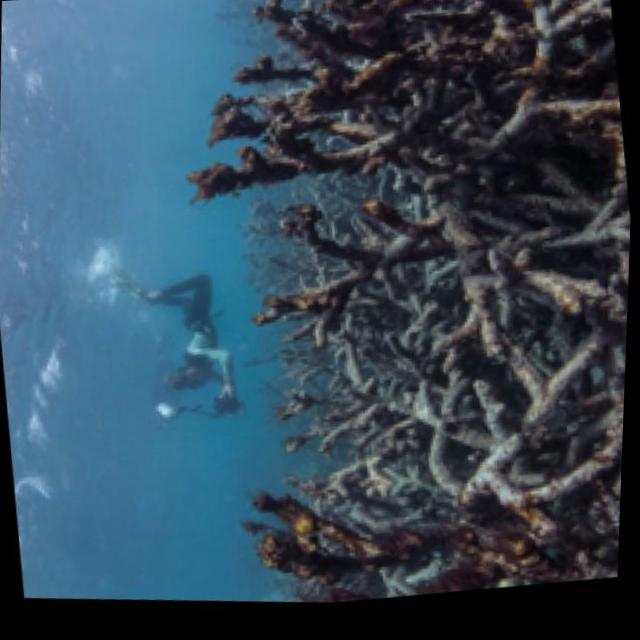Dead Coral: (158, 0, 579, 251), (232, 401, 628, 630), (223, 150, 499, 378)
